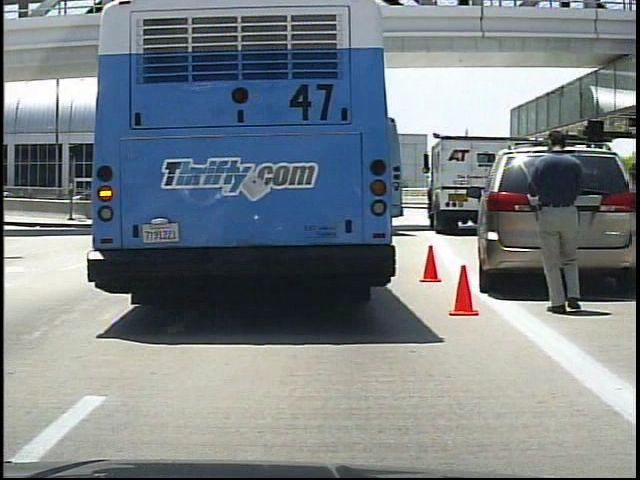person: (528, 126, 590, 315)
